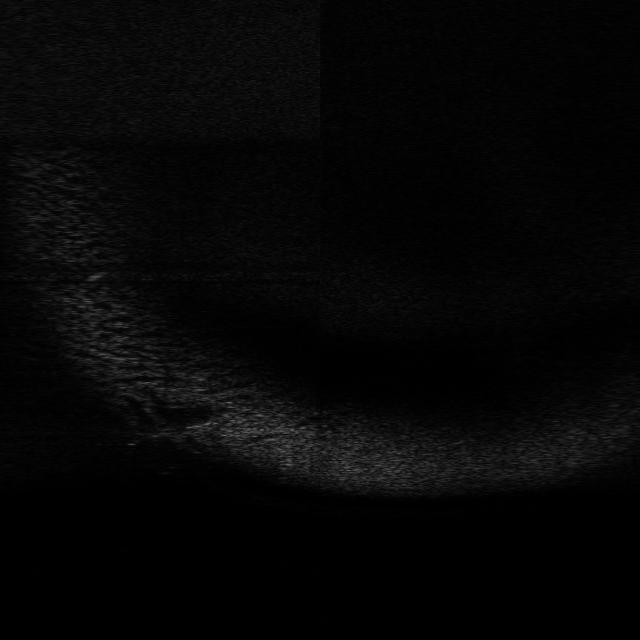plane: (124, 417, 210, 454)
